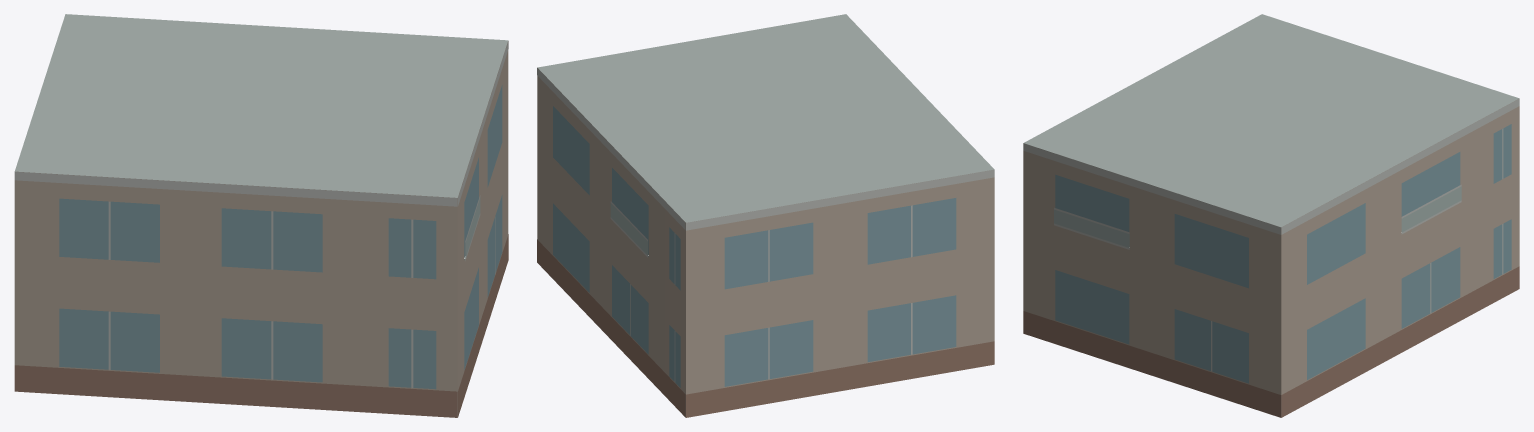
Rendered from survey-upis-32807103.glb.
The picture shows the model from 3 angles, left to right: view 1: azimuth 30°, elevation 25°; view 2: azimuth 150°, elevation 25°; view 3: azimuth 270°, elevation 25°; orthographic projection. The views are drawn at different scales.
Visible parts, largest first — view 1: survey-upis-32807103.tmp; view 2: survey-upis-32807103.tmp; view 3: survey-upis-32807103.tmp.
Boxes of the visible parts, left/top/right/bottom form: survey-upis-32807103.tmp: left=14, top=14, right=508, bottom=417; survey-upis-32807103.tmp: left=537, top=14, right=994, bottom=417; survey-upis-32807103.tmp: left=1023, top=14, right=1519, bottom=417.
Bounding box in the file's own units: 14.66 × 6.1 × 14.41.
